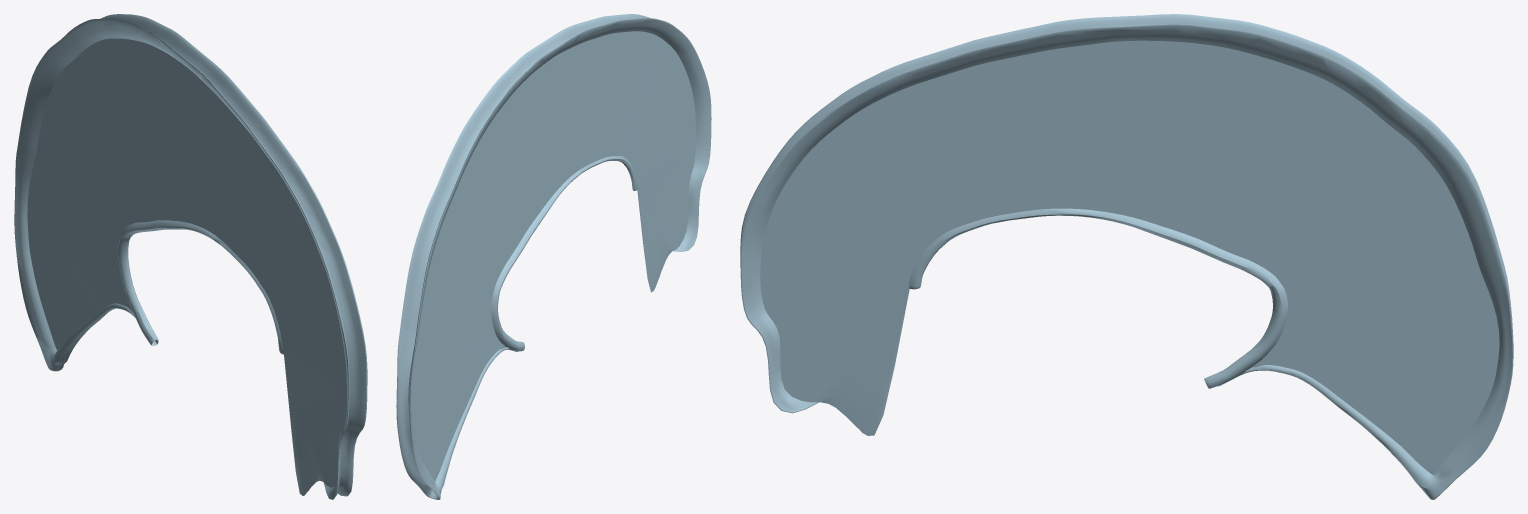
The model's file is nervoso-falx-cerebri.glb.
The picture shows the model from 3 angles, left to right: view 1: azimuth 30°, elevation 25°; view 2: azimuth 150°, elevation 25°; view 3: azimuth 270°, elevation 25°; orthographic projection. The views are drawn at different scales.
Parts seen in each view (by area): view 1: Falx cerebri; view 2: Falx cerebri; view 3: Falx cerebri.
Boxes of the visible parts, x1,y1,x2,y2 form: Falx cerebri: [14, 14, 367, 499]; Falx cerebri: [396, 14, 711, 499]; Falx cerebri: [740, 14, 1513, 499].
Bounding box in the file's own units: 0.00586 × 0.1195 × 0.1748.
